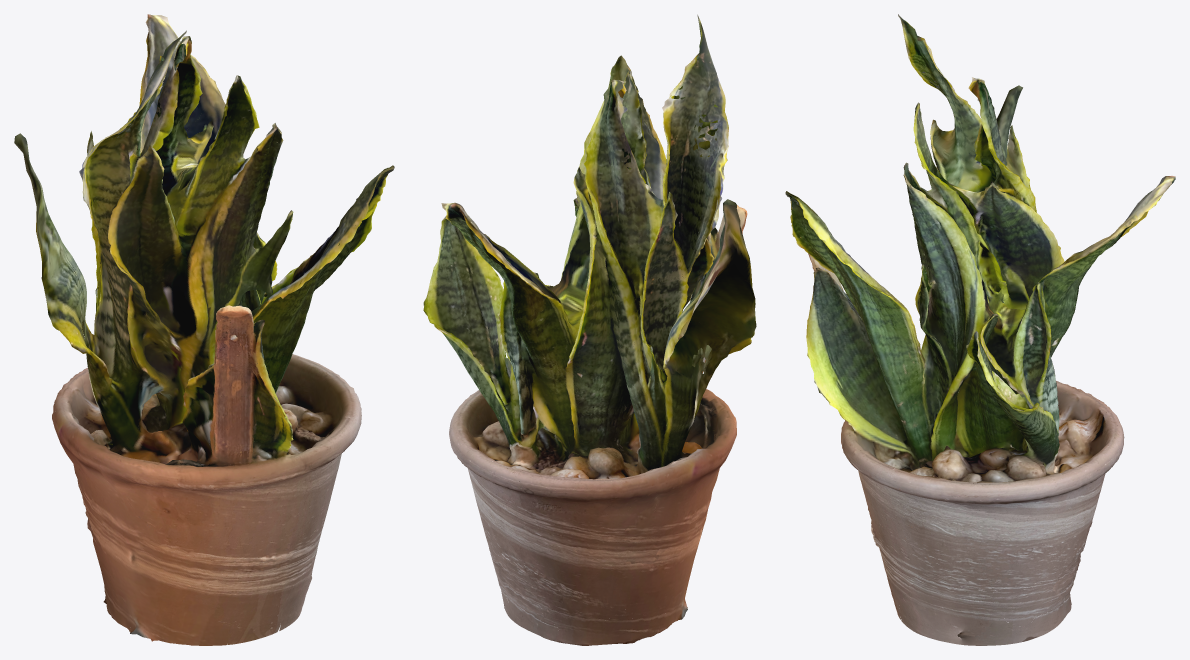
Rendered from day_178_snake_plant.glb.
3 views of the same model, side by side, from view 1: azimuth 30°, elevation 25°; view 2: azimuth 150°, elevation 25°; view 3: azimuth 270°, elevation 25° (orthographic). The views are drawn at different scales.
Parts seen in each view (by area): view 1: Object_3; view 2: Object_3; view 3: Object_3.
Part boxes in pixels (box(x1,y1,x2,y2)): Object_3: box(14, 14, 394, 645); Object_3: box(423, 14, 756, 645); Object_3: box(785, 14, 1175, 645).
Size of the model in its own units: 0.9571 by 1.67 by 1.04.
1 material, 1 textured.
